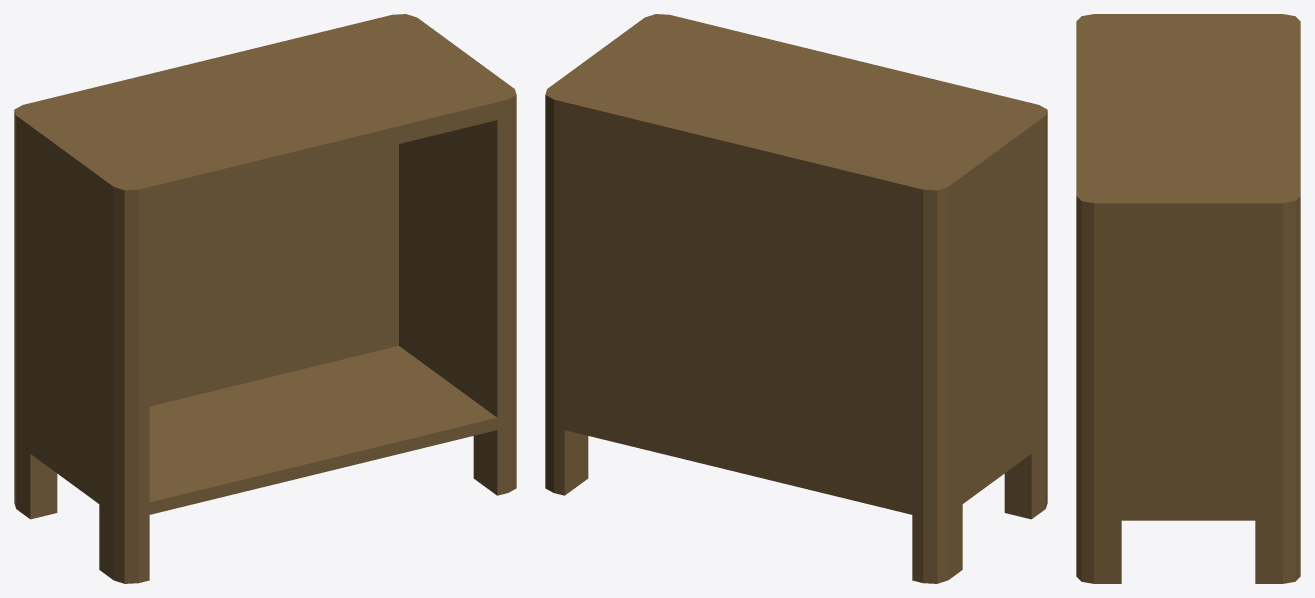
The model's file is schuifkast.fbx.
3 views of the same model, side by side, from view 1: azimuth 30°, elevation 25°; view 2: azimuth 150°, elevation 25°; view 3: azimuth 270°, elevation 25° (orthographic). The views are drawn at different scales.
Visible parts, largest first — view 1: Ladekast meubel; view 2: Ladekast meubel; view 3: Ladekast meubel.
Part boxes in pixels (x1,y1,x2,y2): Ladekast meubel: (14, 14, 516, 583); Ladekast meubel: (545, 14, 1047, 583); Ladekast meubel: (1076, 14, 1300, 583).
Size of the model in its own units: 80 by 75 by 40.
